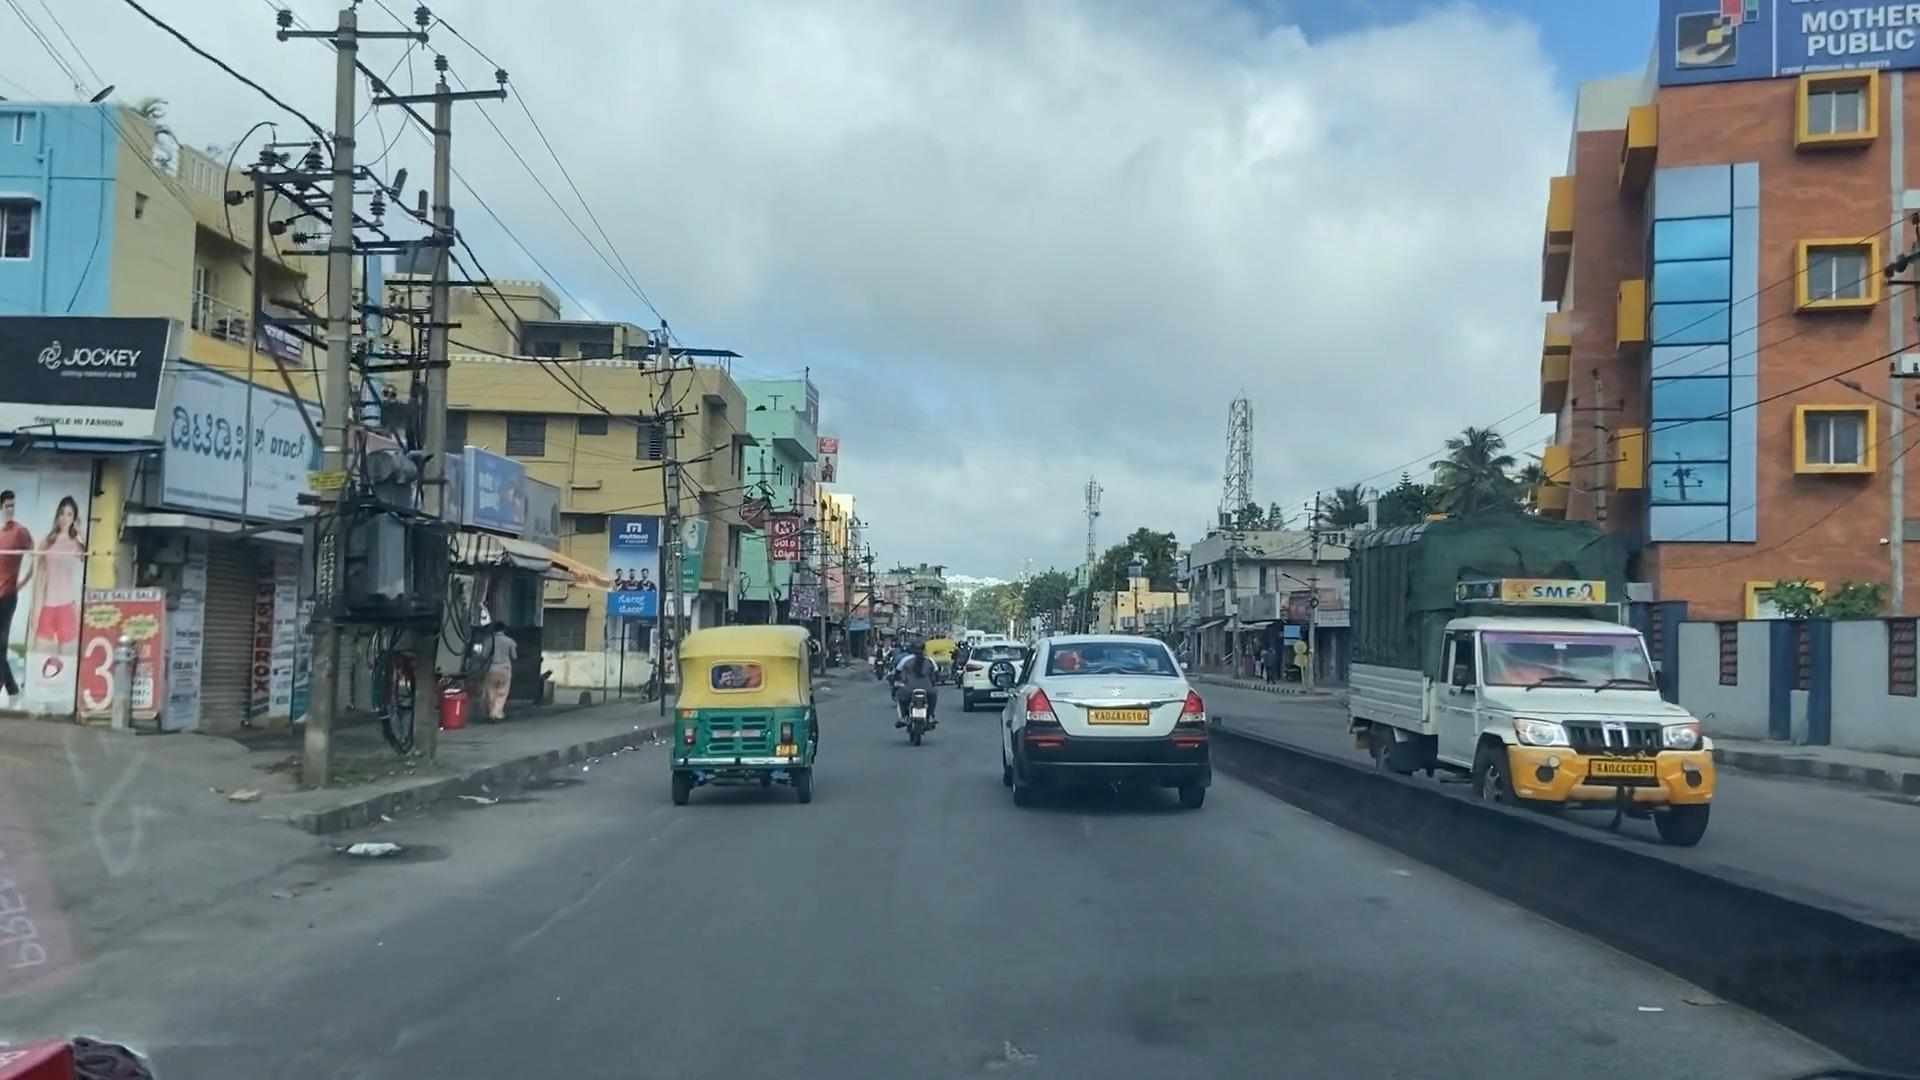LMV: (998, 645, 1218, 807), (676, 625, 823, 799)
RoadDamages: (378, 914, 592, 1068), (601, 811, 716, 905), (922, 1014, 1072, 1080)
